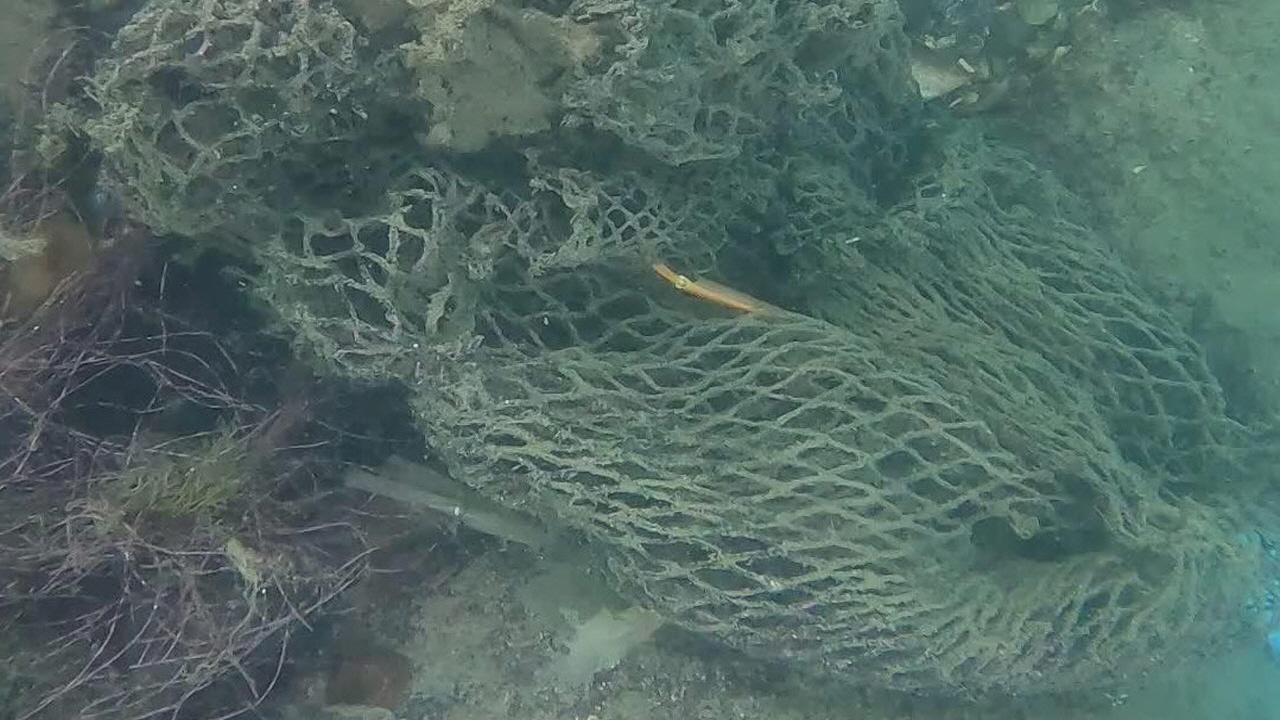fish net: (90, 0, 1280, 699)
